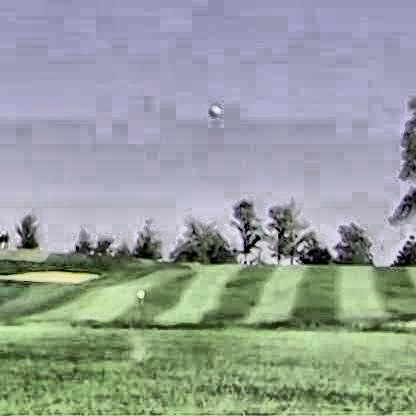golfball: (207, 102, 218, 115)
